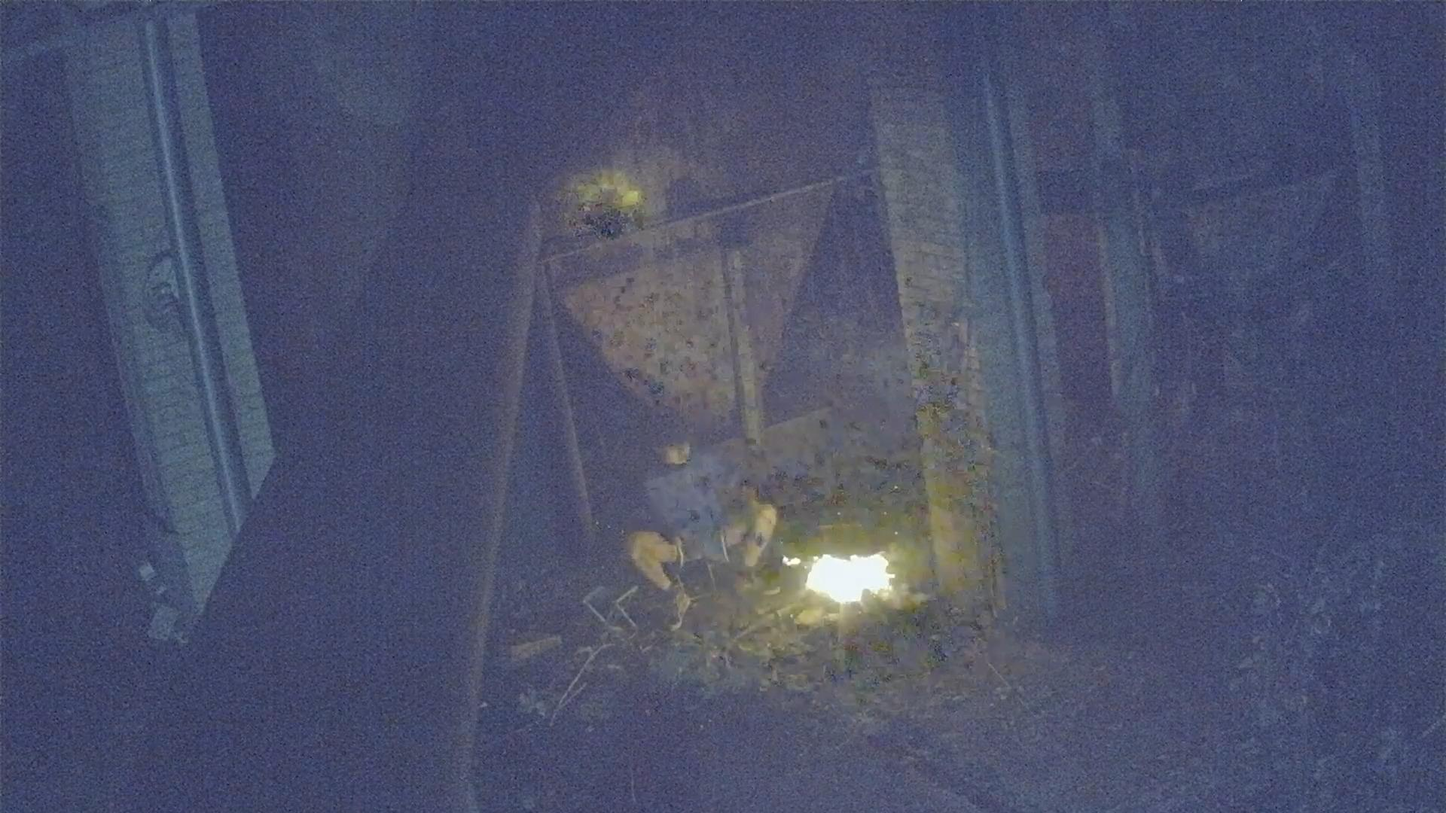fire: (806, 554, 892, 604)
